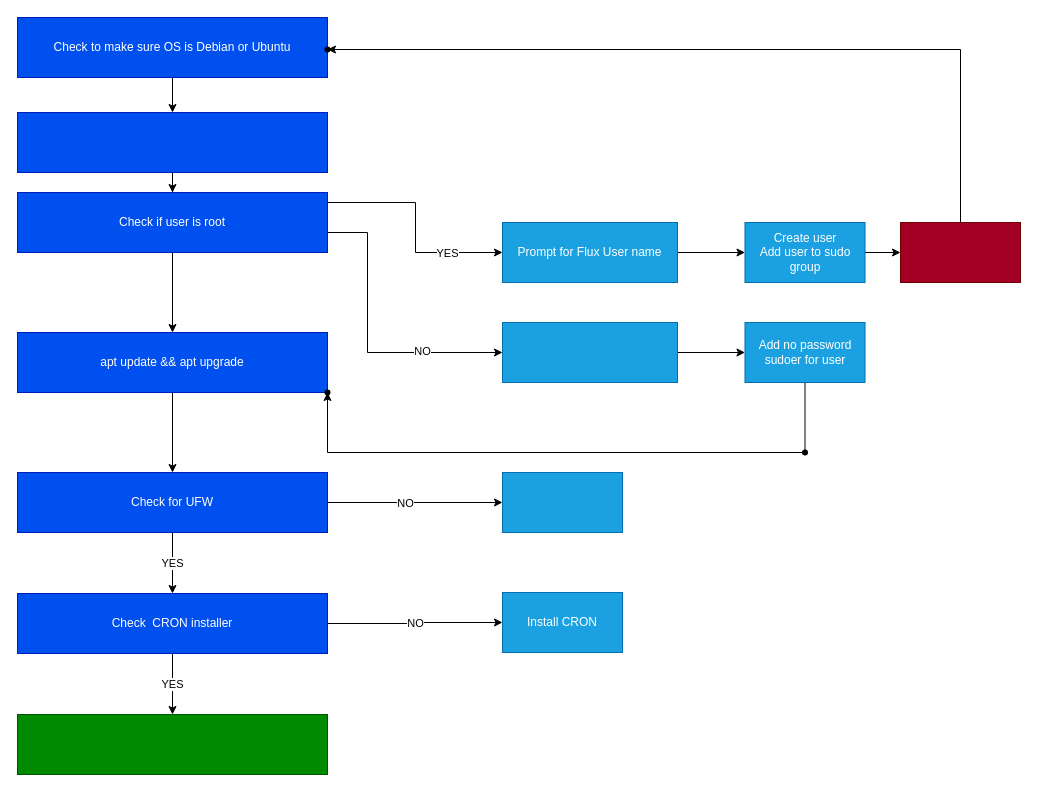
Some shapes in this 1038 by 792 pixel diagram are drawn without their labels. The shapes that lost their labels are listed below. From the top down, each one's centre as x and y in pixels, then its label:
[172,142]: Check OS version and blacklist Kinetic (Jammy if not AVX support)
[960,252]: Switch to new user and exit
[590,352]: Add User to sudo group
[562,502]: Install UFW
[172,744]: Proceed to Docker Install
